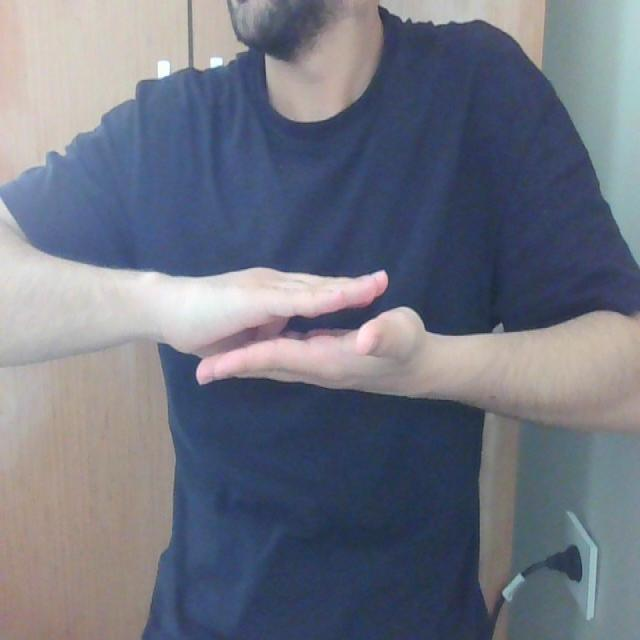Arkadas: (0, 250, 640, 401)
